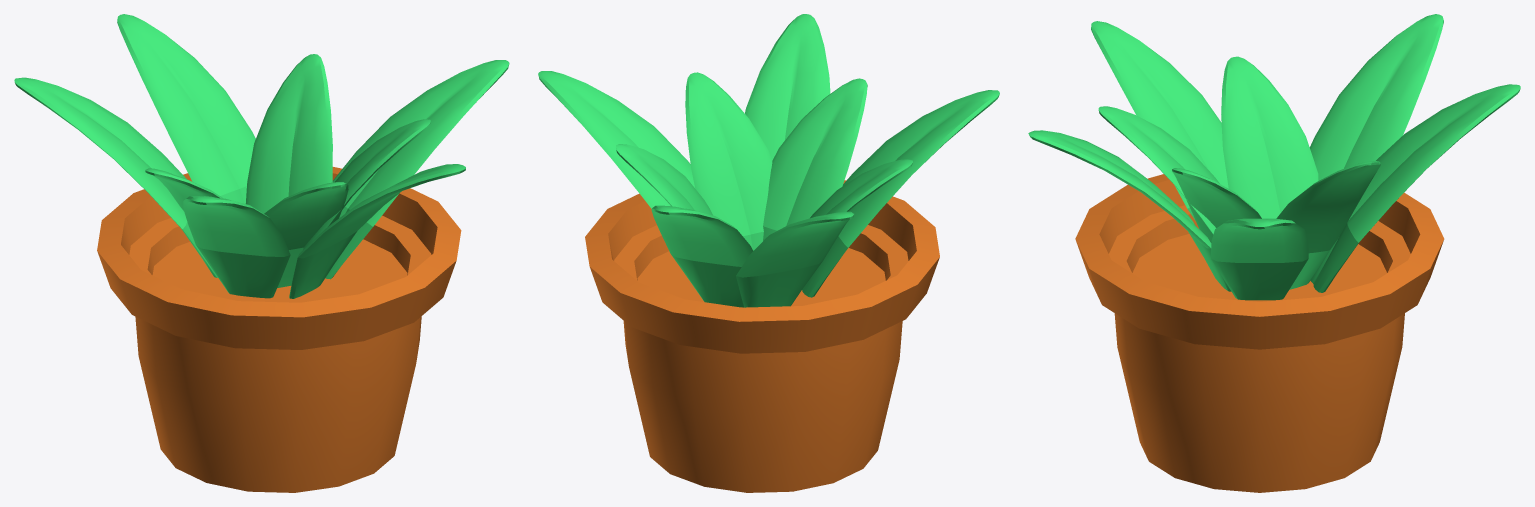
The model's file is PotPlant 1.fbx.
The picture shows the model from 3 angles, left to right: view 1: azimuth 30°, elevation 25°; view 2: azimuth 150°, elevation 25°; view 3: azimuth 270°, elevation 25°; orthographic projection. The views are drawn at different scales.
Visible parts, largest first — view 1: plant pot, leaf.008, leaf.006, leaf.002, leaf.004, leaf.005, plant pot.002, leaf.003, leaf.001, leaf.009, leaf.007; view 2: plant pot, leaf.009, leaf.001, leaf.003, leaf.004, leaf.005, leaf.002, leaf.008, plant pot.002, leaf.006, leaf.007; view 3: plant pot, leaf.007, leaf.005, leaf.004, leaf.008, leaf.002, plant pot.002, leaf.006, leaf.003, leaf.001, leaf.009.
Boxes of the visible parts, x1=… form: plant pot: x1=97, y1=167, x2=461, y2=492; leaf.008: x1=117, y1=14, x2=255, y2=203; leaf.006: x1=245, y1=54, x2=332, y2=213; leaf.002: x1=325, y1=60, x2=509, y2=279; leaf.004: x1=183, y1=196, x2=290, y2=298; leaf.005: x1=14, y1=77, x2=217, y2=277; plant pot.002: x1=152, y1=239, x2=407, y2=302; leaf.003: x1=289, y1=164, x2=465, y2=298; leaf.001: x1=264, y1=182, x2=348, y2=287; leaf.009: x1=303, y1=119, x2=430, y2=249; leaf.007: x1=145, y1=168, x2=223, y2=210; plant pot: x1=585, y1=180, x2=939, y2=492; leaf.009: x1=685, y1=72, x2=772, y2=250; leaf.001: x1=763, y1=78, x2=867, y2=240; leaf.003: x1=745, y1=14, x2=830, y2=160; leaf.004: x1=802, y1=90, x2=999, y2=297; leaf.005: x1=736, y1=211, x2=853, y2=307; leaf.002: x1=538, y1=71, x2=694, y2=208; leaf.008: x1=651, y1=205, x2=753, y2=307; plant pot.002: x1=637, y1=248, x2=885, y2=307; leaf.006: x1=616, y1=144, x2=712, y2=215; leaf.007: x1=810, y1=159, x2=912, y2=218; plant pot: x1=1075, y1=174, x2=1444, y2=492; leaf.007: x1=1221, y1=56, x2=1318, y2=218; leaf.005: x1=1309, y1=14, x2=1443, y2=180; leaf.004: x1=1091, y1=21, x2=1228, y2=220; leaf.008: x1=1310, y1=84, x2=1520, y2=292; leaf.002: x1=1211, y1=218, x2=1308, y2=300; plant pot.002: x1=1132, y1=234, x2=1386, y2=301; leaf.006: x1=1276, y1=161, x2=1380, y2=289; leaf.003: x1=1028, y1=130, x2=1231, y2=291; leaf.001: x1=1098, y1=106, x2=1219, y2=234; leaf.009: x1=1172, y1=168, x2=1261, y2=242.
Size of the model in its own units: 516 by 422 by 540.
